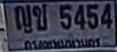4: (100, 3, 111, 28), (74, 4, 84, 29)
5: (59, 4, 71, 29), (86, 3, 97, 28)
A10: (32, 3, 47, 30)
A13: (14, 4, 33, 33)
BKK: (22, 36, 103, 49)
